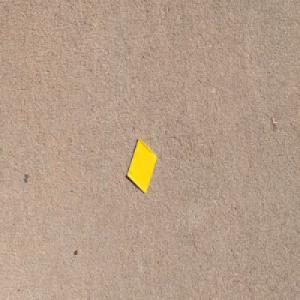PlasticPart: (126, 136, 157, 194)
